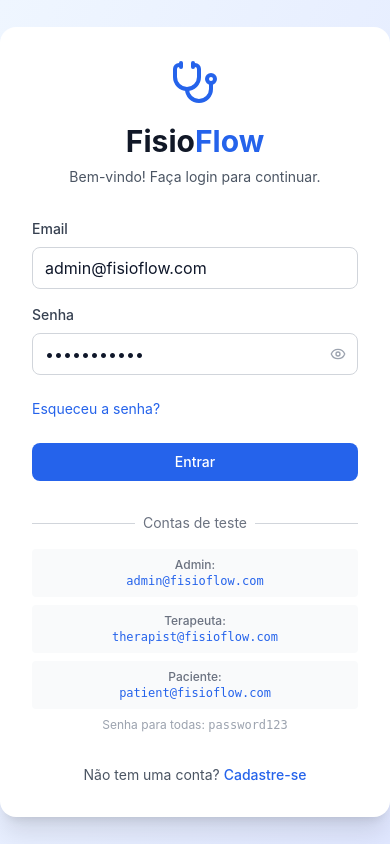
Test case: LoginPage › should toggle password visibility
Click the 1st button: [344, 354] box [330, 333, 358, 375]
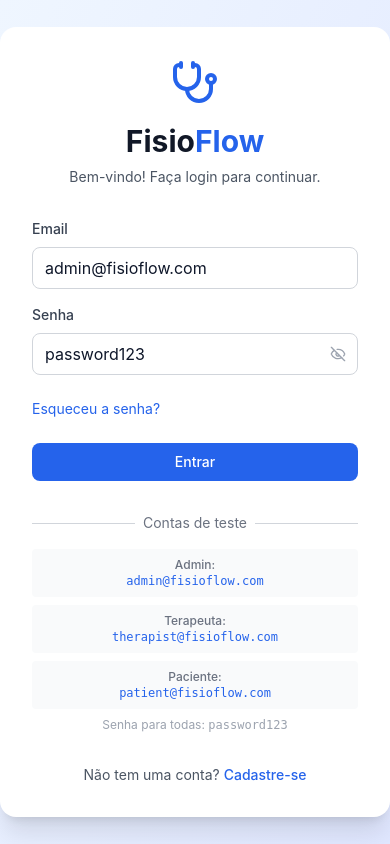
Expected: the field labelled "Senha" shows its text, [32, 333, 358, 375]
Click the 1st button: [344, 354] box [330, 333, 358, 375]
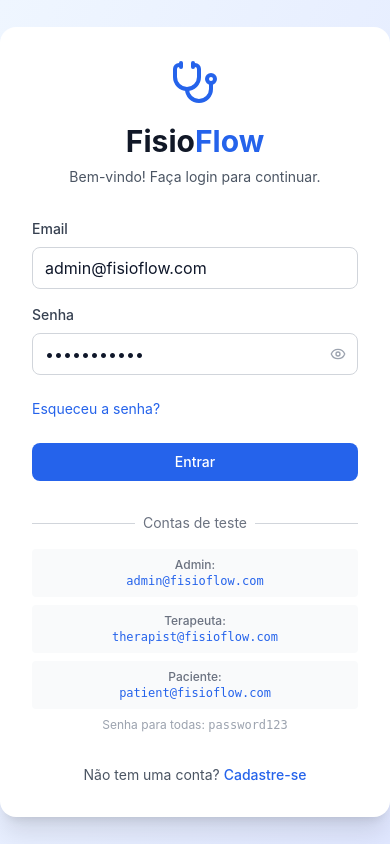
Expected: the password field labelled "Senha" hides its text, [32, 333, 358, 375]
